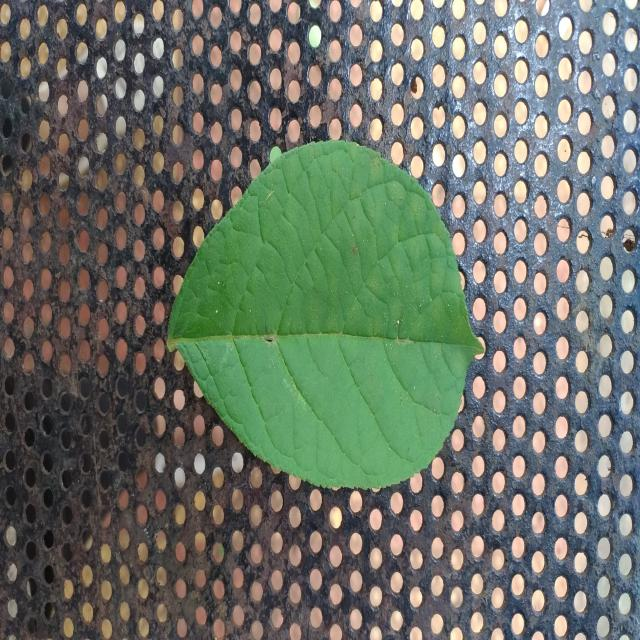padri: (169, 142, 484, 489)
